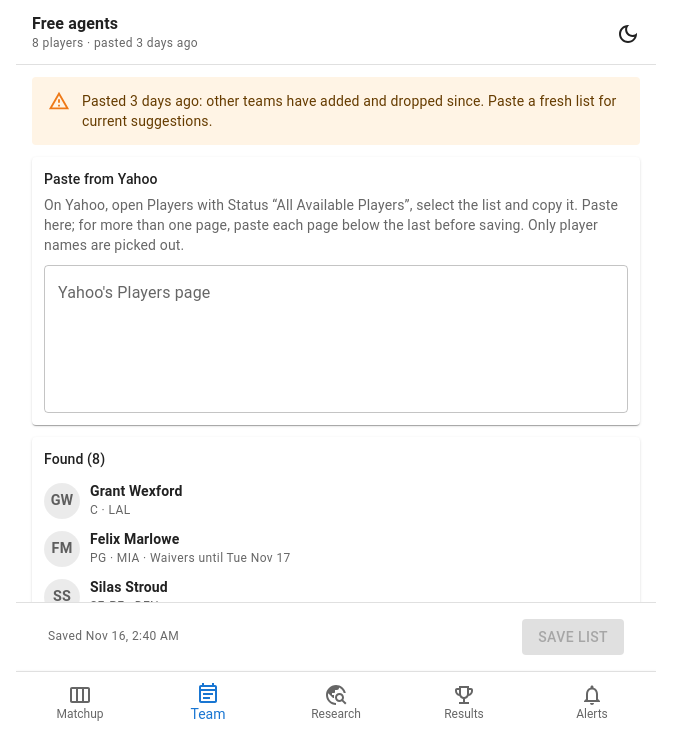
Test: free agents › says when nothing was found, and when the list is old
Expected: the text "other teams have added and dropped since" is shown, [82,93,616,129]
Step 1. Type "nothing here" into the text box labelled "Yahoo's Players page" → (336, 339), box [58,282,614,396]
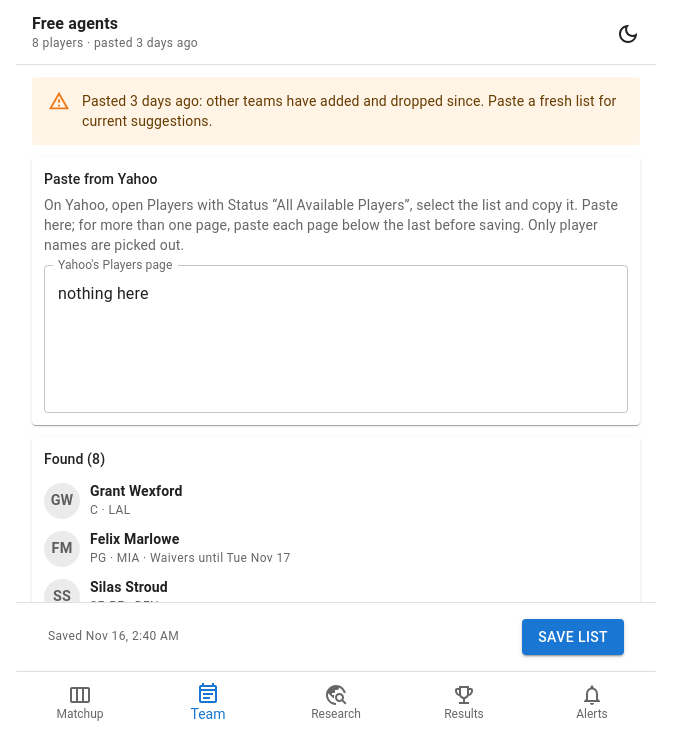
Step 2. Click the button "Save list" → (573, 637), box [522,618,624,655]
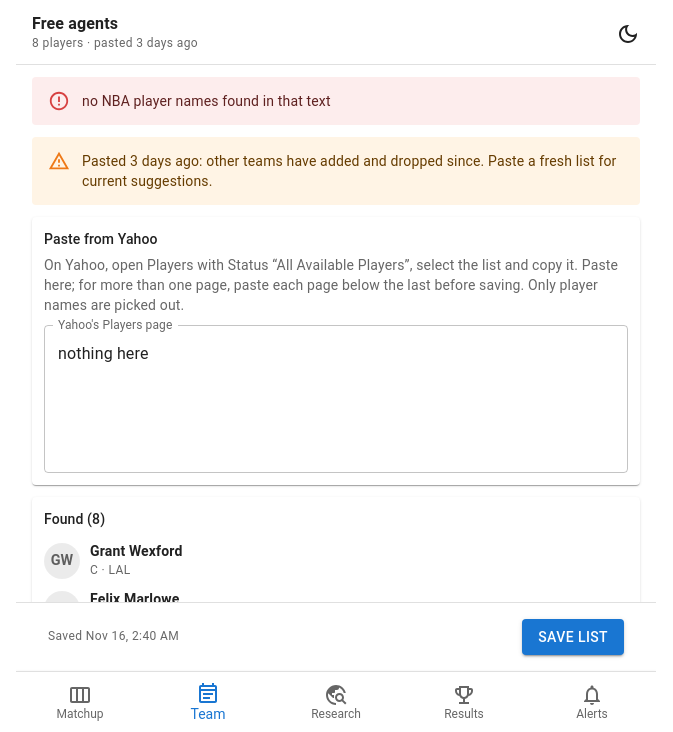
Expected: the text "no NBA player names found in that text" is shown, [82,93,331,109]
